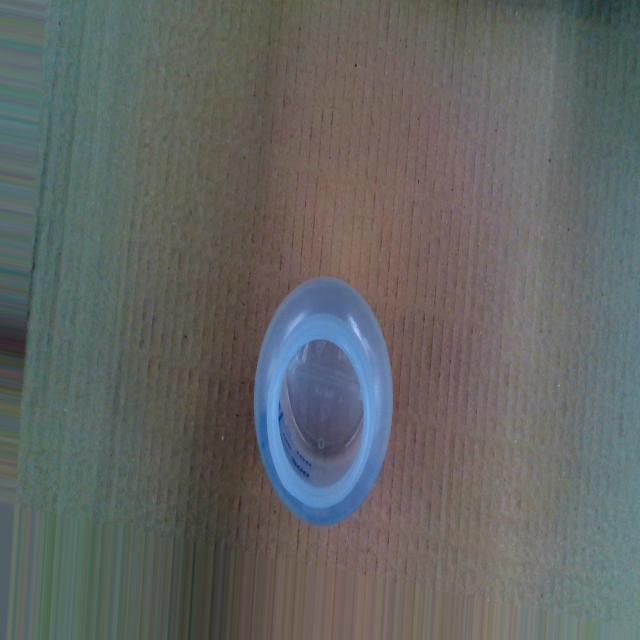bottle: (253, 273, 394, 525)
